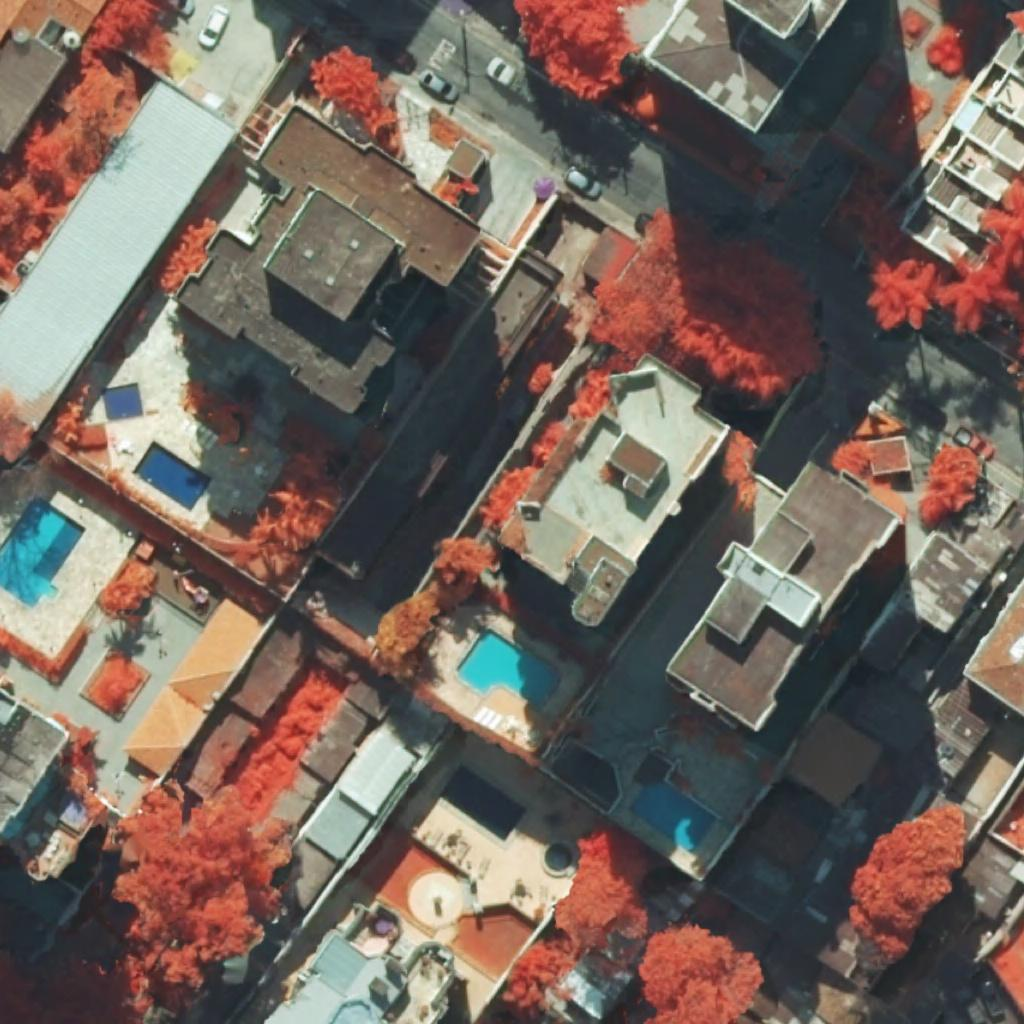pool: (0, 495, 86, 608), (456, 628, 559, 708), (440, 765, 527, 842), (630, 782, 716, 853), (132, 441, 212, 512), (102, 383, 143, 420), (545, 843, 573, 871)
